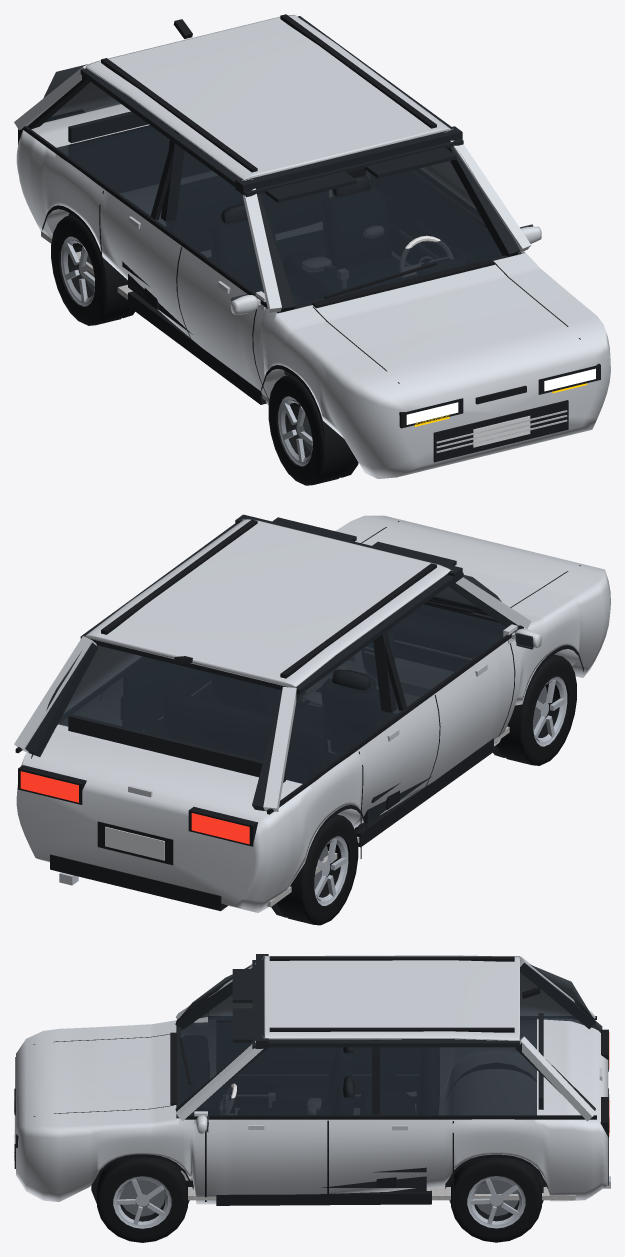
The model's file is car_suv.glb.
3 views of the same model, one above another, from view 1: azimuth 30°, elevation 25°; view 2: azimuth 150°, elevation 25°; view 3: azimuth 270°, elevation 25° (orthographic). The views are drawn at different scales.
Visible parts, largest first — view 1: Body, Glass, Cabin, Trim, Wheel_FR, Wheel_RR, HeadLamp, Chrome, PlateF, Seats; view 2: Body, Glass, Trim, Cabin, Wheel_FR, Wheel_RR, TailLamp, PlateR, Seats, Chrome; view 3: Body, Glass, Trim, Cabin, Wheel_FL, Wheel_RL, Carpet.
Boxes of the visible parts, <box> form: Body: <box>14,14,610,478</box>; Glass: <box>43,64,521,312</box>; Cabin: <box>27,16,520,375</box>; Trim: <box>18,14,600,477</box>; Wheel_FR: <box>268,374,352,485</box>; Wheel_RR: <box>51,215,130,325</box>; HeadLamp: <box>406,368,595,424</box>; Chrome: <box>128,216,567,452</box>; PlateF: <box>473,415,530,447</box>; Seats: <box>220,176,370,224</box>; Body: <box>14,515,610,912</box>; Glass: <box>31,575,518,783</box>; Trim: <box>15,519,583,917</box>; Cabin: <box>25,514,517,830</box>; Wheel_FR: <box>496,654,576,765</box>; Wheel_RR: <box>276,814,358,925</box>; TailLamp: <box>20,771,249,844</box>; PlateR: <box>105,826,164,860</box>; Seats: <box>332,670,370,690</box>; Chrome: <box>59,664,487,885</box>; Body: <box>16,955,608,1204</box>; Glass: <box>176,960,602,1118</box>; Trim: <box>14,956,608,1216</box>; Cabin: <box>175,954,595,1192</box>; Wheel_FL: <box>97,1157,187,1242</box>; Wheel_RL: <box>451,1157,541,1242</box>; Carpet: <box>181,1170,575,1200</box>.
Bounding box in the file's own units: 2.15 × 1.7 × 4.49.
Materials: 17 (4 with a texture image).
